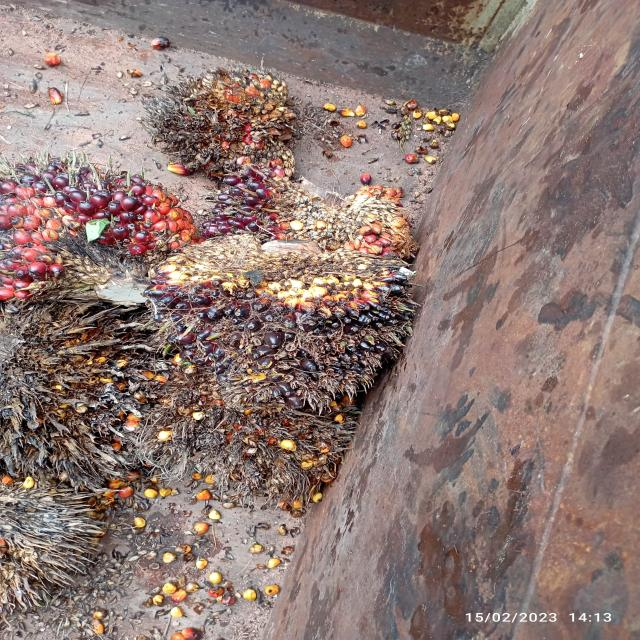fraksi 00: (148, 228, 442, 427), (199, 155, 443, 277)
fraksi 1: (12, 148, 212, 262)
fraksi 3: (0, 179, 89, 306)
fraksi 4: (146, 47, 306, 177)
